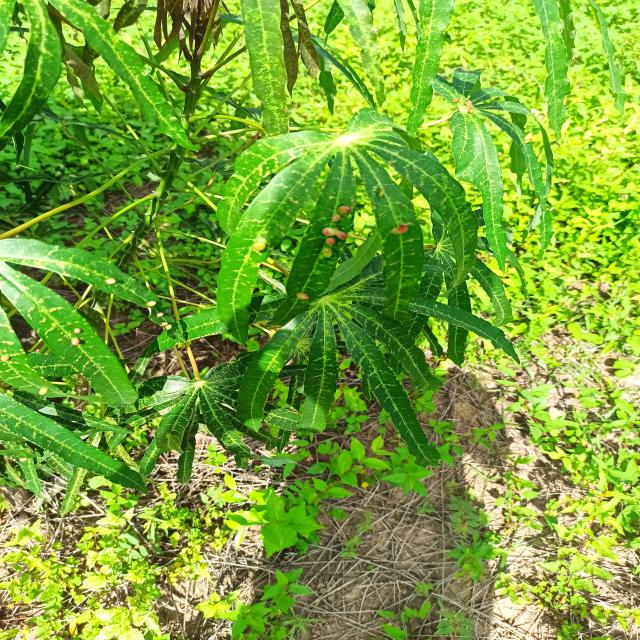Maleza: (549, 163, 640, 513), (130, 515, 292, 632), (33, 516, 170, 610), (253, 493, 336, 547)
Mosca: (138, 295, 173, 336), (318, 226, 351, 262), (68, 320, 89, 365), (450, 96, 485, 119), (329, 199, 356, 226), (383, 215, 412, 237), (243, 237, 273, 258), (30, 379, 54, 400), (289, 285, 313, 304), (94, 273, 119, 290), (0, 353, 16, 373), (369, 183, 390, 198)
